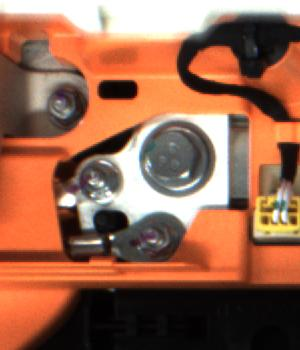nut_b: (139, 124, 222, 198)
